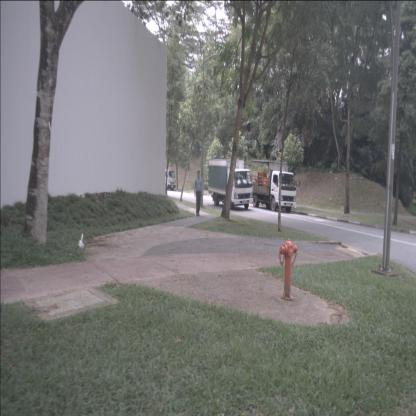human-pedestrian-adult: (194, 170, 204, 216)
vehicle-truck: (250, 159, 297, 213), (207, 158, 254, 210), (156, 169, 176, 191)
